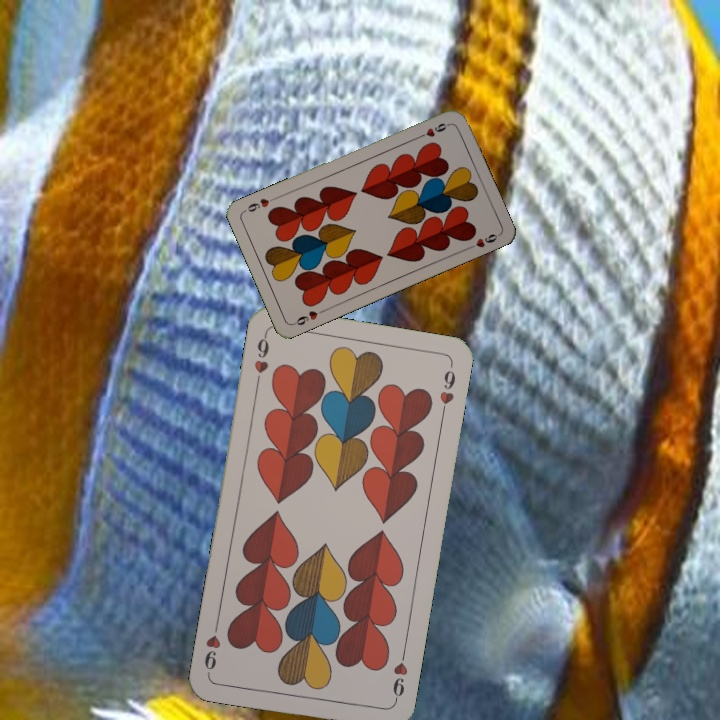H9: (388, 647, 411, 706), (250, 330, 272, 389), (289, 305, 328, 328), (414, 119, 452, 141)
